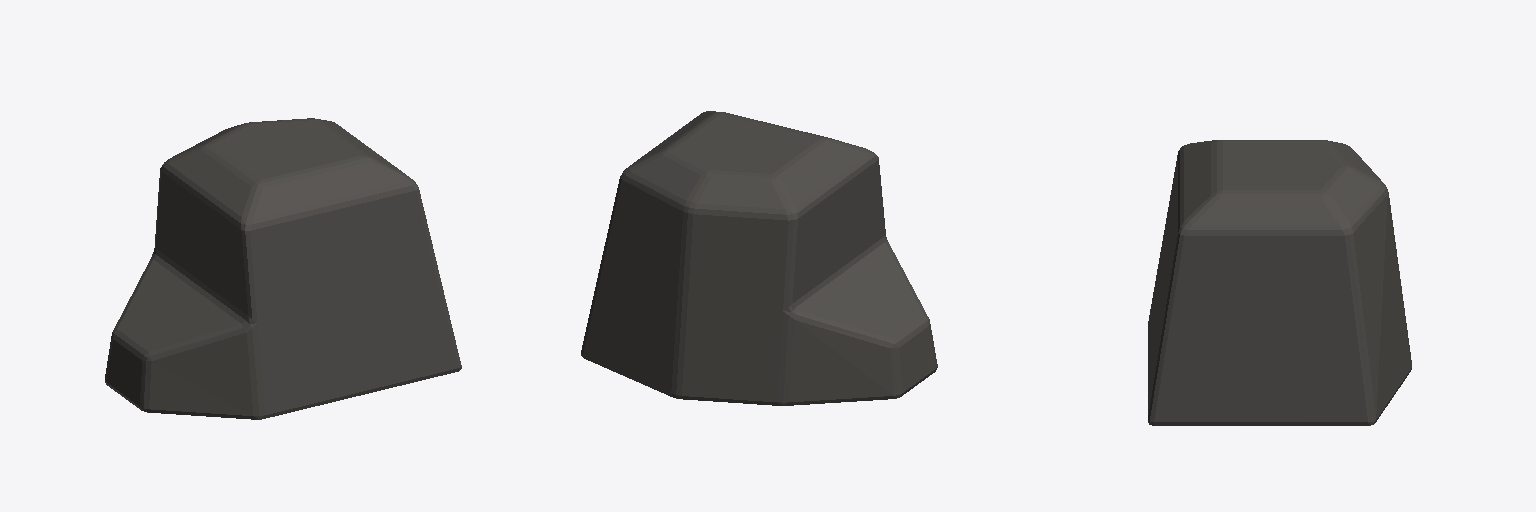
File: boulder-1.obj
3 renders of one model, left to right at view 1: azimuth 30°, elevation 25°; view 2: azimuth 150°, elevation 25°; view 3: azimuth 270°, elevation 25°, orthographic.
Parts seen in each view (by area): view 1: Boulder_Cube.003; view 2: Boulder_Cube.003; view 3: Boulder_Cube.003.
Boxes of the visible parts, x1,y1,x2,y2 form: Boulder_Cube.003: [105, 118, 461, 419]; Boulder_Cube.003: [581, 111, 937, 405]; Boulder_Cube.003: [1148, 140, 1411, 425].
Bounding box in the file's own units: 0.8065 × 0.5564 × 0.65.